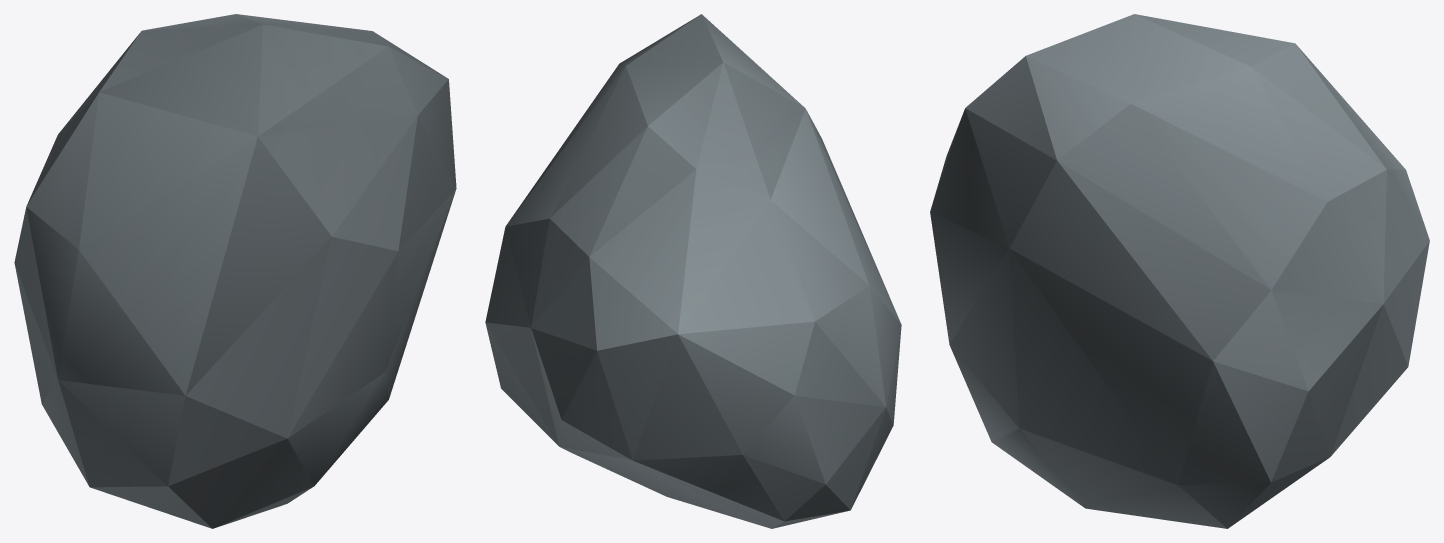
Rendered from kf_rock_3_e.fbx.
3 views of the same model, side by side, from view 1: azimuth 30°, elevation 25°; view 2: azimuth 150°, elevation 25°; view 3: azimuth 270°, elevation 25° (orthographic). The views are drawn at different scales.
Parts seen in each view (by area): view 1: kf_rock_3_e; view 2: kf_rock_3_e; view 3: kf_rock_3_e.
Part boxes in pixels (box(x1,y1,x2,y2)): kf_rock_3_e: box(14, 14, 456, 528); kf_rock_3_e: box(485, 14, 901, 528); kf_rock_3_e: box(930, 14, 1429, 528).
Size of the model in its own units: 2.75 by 3.09 by 2.83.
